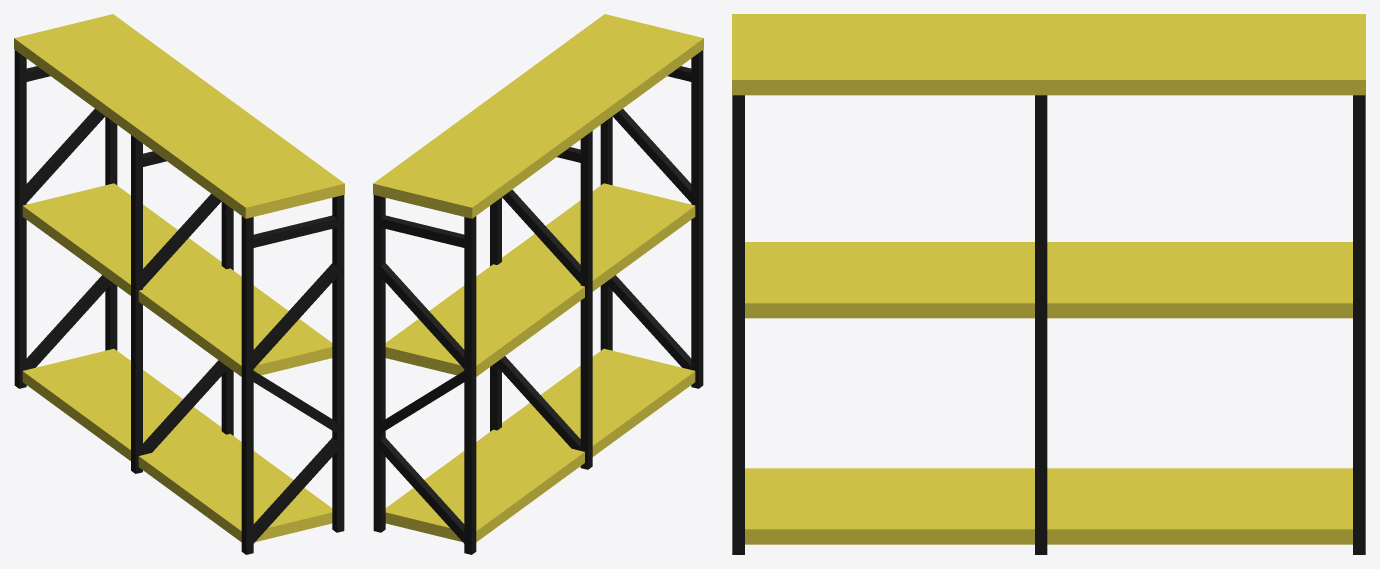
The model's file is shelf_empty_movai.dae.
3 views of the same model, side by side, from view 1: azimuth 30°, elevation 25°; view 2: azimuth 150°, elevation 25°; view 3: azimuth 270°, elevation 25° (orthographic). The views are drawn at different scales.
Parts seen in each view (by area): view 1: metal_base.008; view 2: metal_base.008; view 3: metal_base.008.
Boxes of the visible parts, x1=… form: metal_base.008: x1=14, y1=14, x2=344, y2=554; metal_base.008: x1=373, y1=14, x2=703, y2=554; metal_base.008: x1=732, y1=14, x2=1365, y2=554.
Bounding box in the file's own units: 0.9146 × 3.7 × 3.06.
